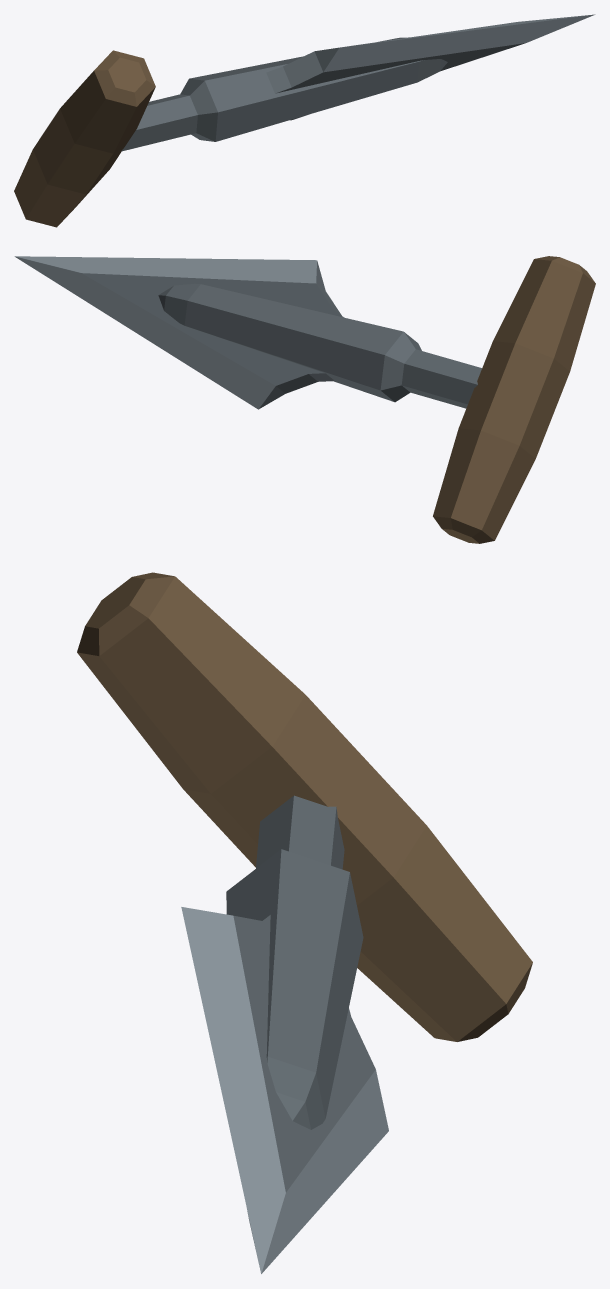
Rendered from fk-knuckledagger-01.glb.
3 renders of one model, top to bottom at view 1: azimuth 30°, elevation 25°; view 2: azimuth 150°, elevation 25°; view 3: azimuth 270°, elevation 25°, orthographic. The views are drawn at different scales.
Visible parts, largest first — view 1: fk-knuckledagger-01; view 2: fk-knuckledagger-01; view 3: fk-knuckledagger-01.
Part boxes in pixels (x1=…): fk-knuckledagger-01: x1=14, y1=14, x2=595, y2=227; fk-knuckledagger-01: x1=14, y1=256, x2=595, y2=543; fk-knuckledagger-01: x1=77, y1=572, x2=532, y2=1273.
Bounding box in the file's own units: 0.4258 × 0.1733 × 0.158.
1 material, 1 textured.
